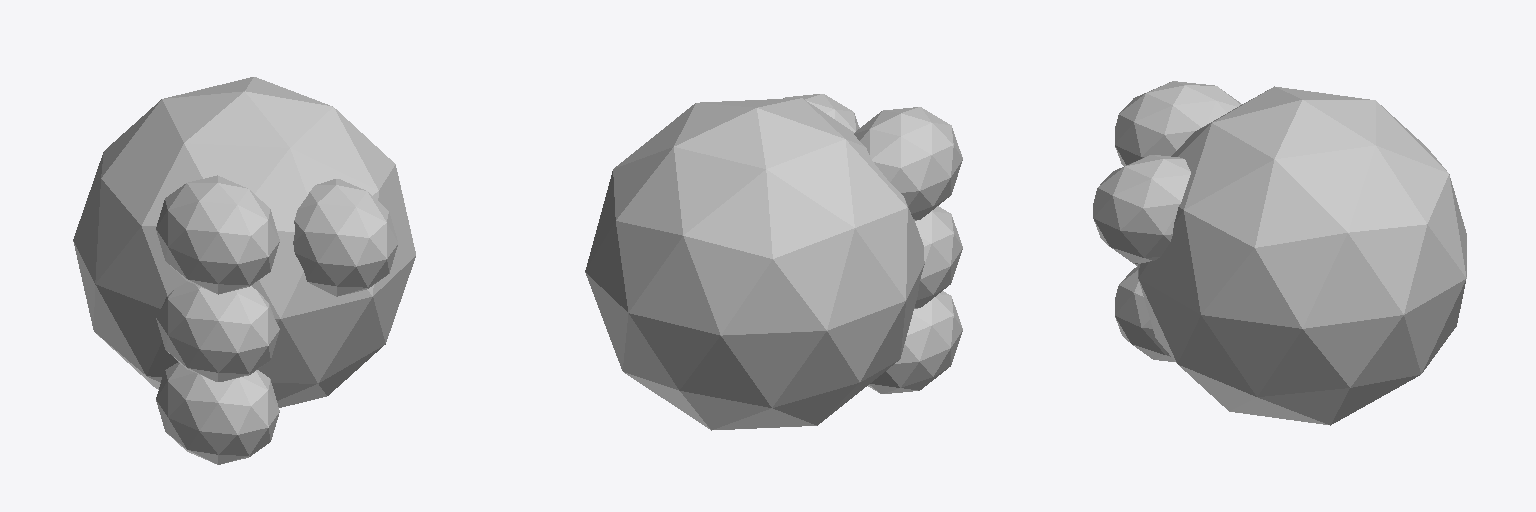
File: Eddy_HandRight.obj
3 views of the same model, side by side, from view 1: azimuth 30°, elevation 25°; view 2: azimuth 150°, elevation 25°; view 3: azimuth 270°, elevation 25° (orthographic).
Parts seen in each view (by area): view 1: Icosphere.003_Icosphere.002; view 2: Icosphere.003_Icosphere.002; view 3: Icosphere.003_Icosphere.002.
Boxes of the visible parts, x1,y1,x2,y2 form: Icosphere.003_Icosphere.002: [73, 77, 415, 464]; Icosphere.003_Icosphere.002: [585, 94, 962, 430]; Icosphere.003_Icosphere.002: [1093, 81, 1466, 425].
Bounding box in the file's own units: 0.3 × 0.3 × 0.3245.